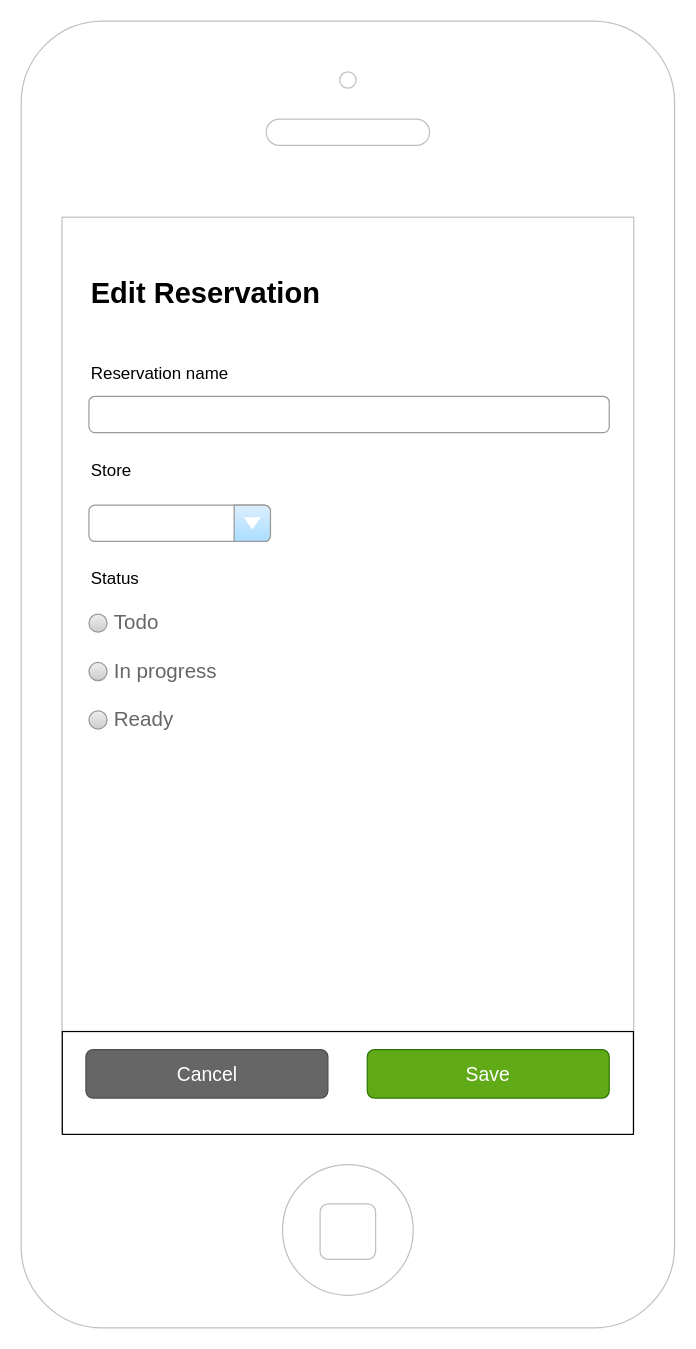
Some shapes in this 696 by 1349 pixel diagram are drawn without their labels. Here are the shapes that lost their labels. From the top down, the centre of each, then its label:
At pixel 348 414: "Foo".
At pixel 179 522: "Amsterdam".
